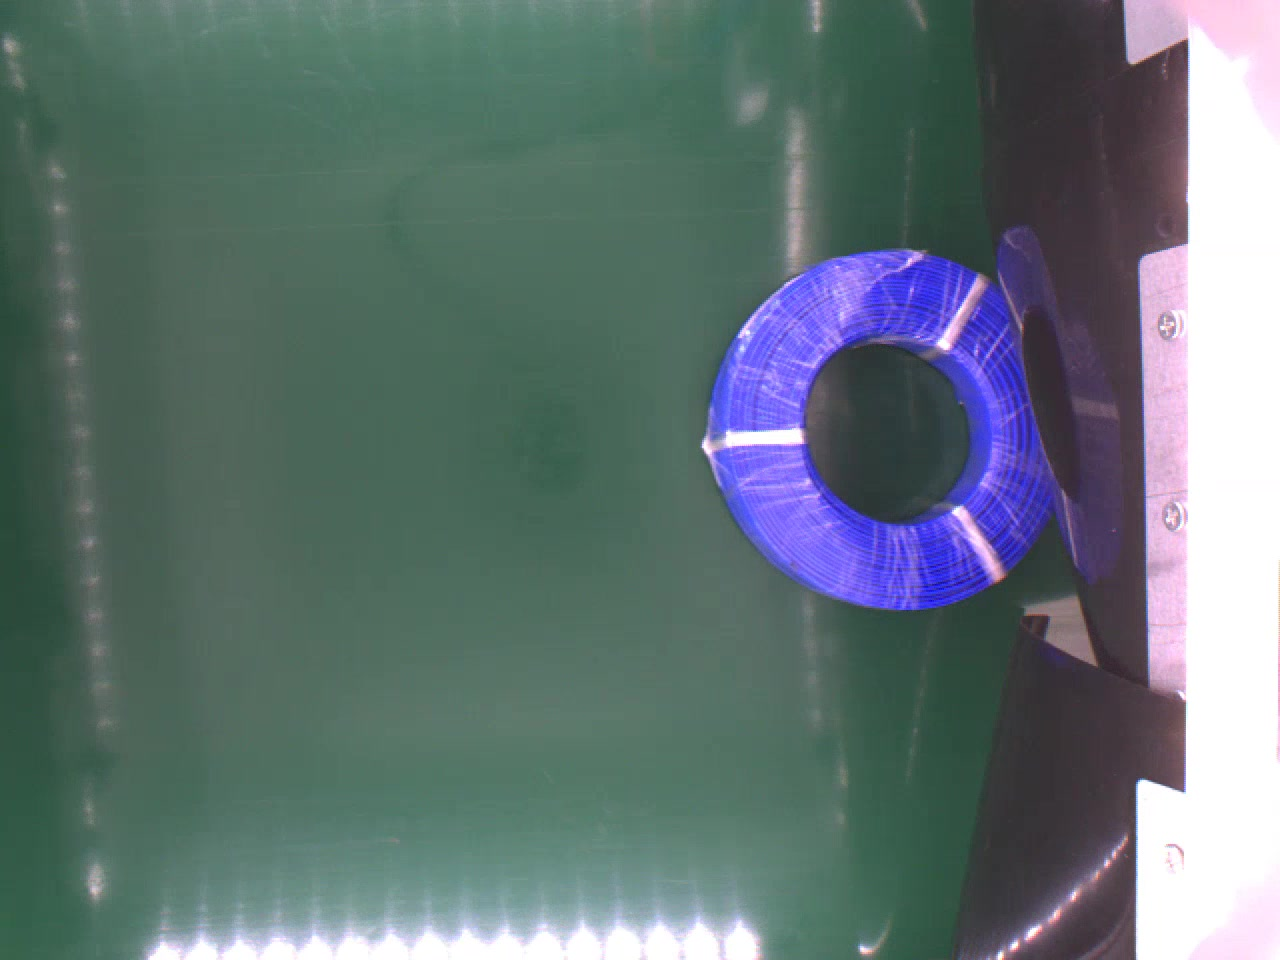blue: (705, 244, 1053, 611)
